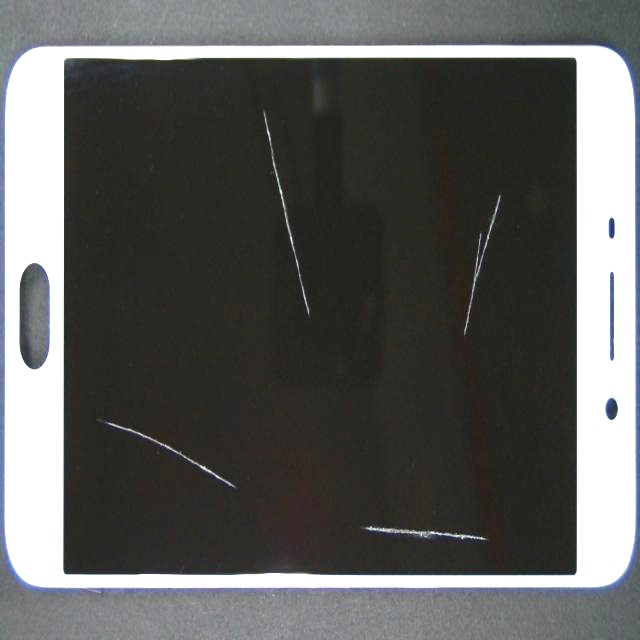scratch: (273, 0, 640, 345), (326, 274, 640, 640), (105, 0, 404, 262), (201, 275, 311, 640)
